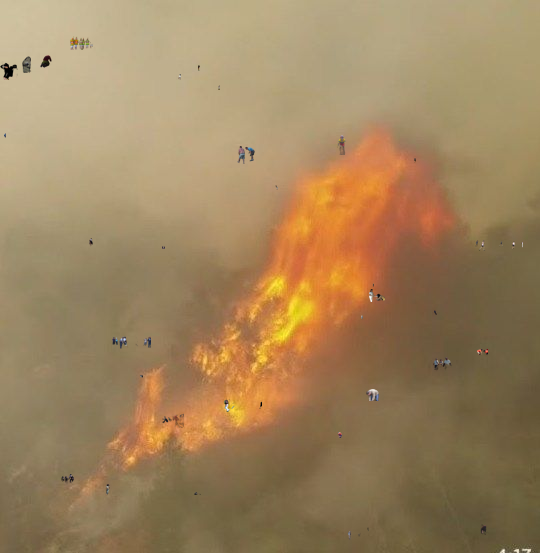Human: (22, 55, 52, 73), (474, 240, 523, 251), (224, 398, 262, 412), (112, 336, 151, 349), (61, 36, 97, 50), (0, 61, 18, 80), (162, 413, 184, 428), (237, 146, 255, 164), (433, 357, 452, 371), (369, 289, 385, 302), (337, 135, 346, 155), (366, 389, 379, 401), (348, 531, 365, 540), (61, 474, 74, 485), (480, 524, 489, 535), (477, 349, 488, 355), (275, 185, 284, 190), (106, 484, 110, 495), (89, 238, 93, 247), (138, 375, 143, 380), (338, 432, 342, 438), (194, 492, 201, 495), (178, 74, 181, 80), (434, 310, 437, 315), (198, 65, 200, 71), (414, 157, 416, 163), (218, 85, 220, 90), (372, 283, 374, 288), (367, 527, 369, 532), (4, 133, 6, 138), (361, 315, 363, 320), (162, 246, 165, 249)
